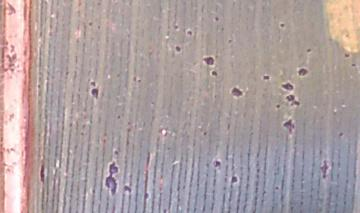tarspot: (102, 158, 120, 200), (281, 116, 298, 140), (293, 64, 312, 82), (229, 83, 245, 102), (36, 161, 48, 184), (318, 159, 330, 180), (286, 93, 301, 108), (201, 54, 217, 68), (89, 87, 102, 100), (280, 81, 295, 91), (228, 174, 241, 185), (130, 74, 143, 85), (173, 43, 184, 55), (122, 183, 133, 195), (86, 79, 102, 87), (212, 158, 223, 169), (260, 74, 273, 83), (185, 27, 194, 40), (171, 23, 182, 33), (142, 192, 152, 202), (200, 128, 209, 138), (278, 20, 286, 31), (271, 184, 282, 192), (343, 51, 351, 61), (337, 130, 345, 139), (275, 102, 283, 111), (210, 69, 219, 77), (86, 19, 94, 28), (115, 113, 123, 122), (226, 38, 235, 45), (95, 25, 104, 32), (351, 61, 357, 71), (213, 15, 221, 22), (218, 26, 226, 33), (344, 32, 351, 39), (305, 47, 312, 54), (94, 1, 101, 7)
